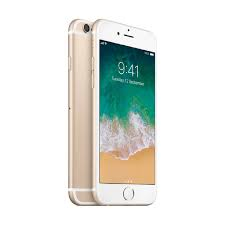iphone6: (64, 14, 158, 209), (89, 15, 156, 207)
